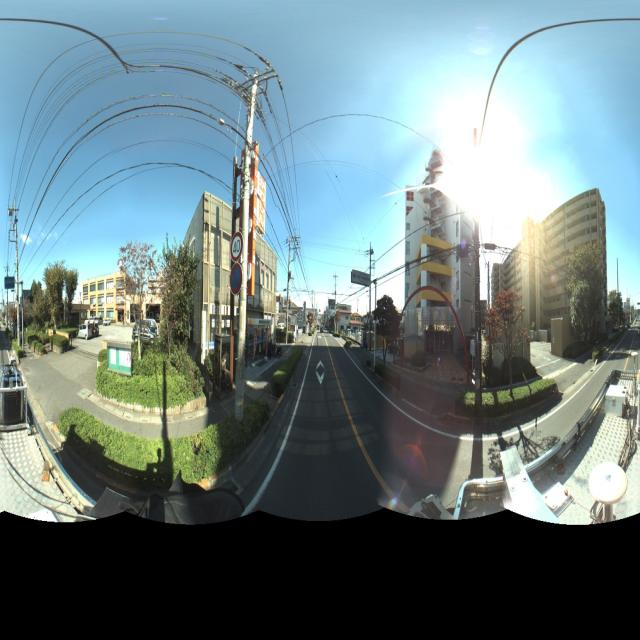b_1: (486, 192, 609, 350), (180, 197, 280, 382), (405, 184, 482, 361), (82, 270, 130, 326)
b_2: (143, 248, 213, 380), (331, 292, 371, 363)
